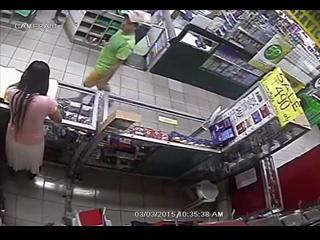Normal: (4, 60, 64, 180), (82, 11, 150, 92)
